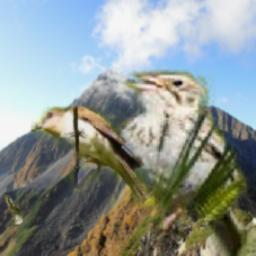Cuckoo: (30, 107, 155, 214), (5, 196, 23, 227)
Sparrow: (112, 70, 256, 256)
